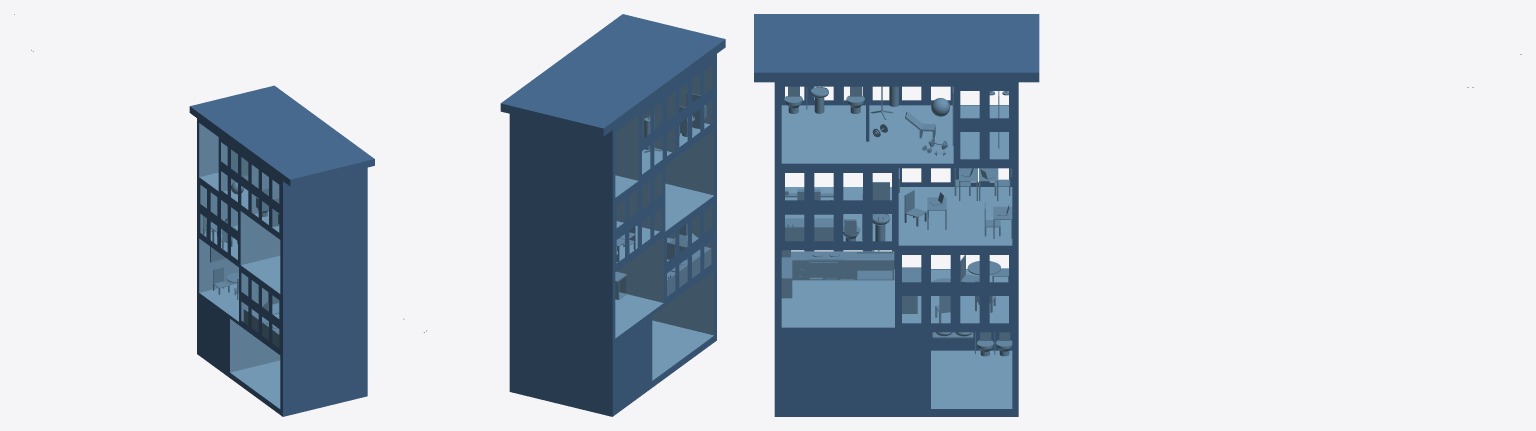
Rendered from office-1.glb.
The picture shows the model from 3 angles, left to right: view 1: azimuth 30°, elevation 25°; view 2: azimuth 150°, elevation 25°; view 3: azimuth 270°, elevation 25°; orthographic projection. The views are drawn at different scales.
Parts seen in each view (by area): view 1: Cube, Grid.001, Cube.018, Cube.012, Cube.027, Cube.007, Cube.008, Cube.011, Cube.002, Cube.031; view 2: Cube, Grid.001, Cube.011, Cube.027, Cube.019, Cube.007, Cube.012, Cube.031, Cube.002, Cube.008, Cube.020; view 3: Grid, Cube, Cube.008, Cube.007, Cube.027, Cube.031, Grid.001, Cube.042.
Part boxes in pixels (x1=…): Cube: x1=189, y1=85, x2=374, y2=416; Grid.001: x1=198, y1=119, x2=281, y2=413; Cube.018: x1=229, y1=318, x2=280, y2=372; Cube.012: x1=240, y1=211, x2=280, y2=265; Cube.027: x1=202, y1=225, x2=280, y2=293; Cube.007: x1=199, y1=283, x2=279, y2=321; Cube.008: x1=199, y1=172, x2=279, y2=232; Cube.011: x1=241, y1=272, x2=279, y2=321; Cube.002: x1=251, y1=165, x2=279, y2=214; Cube.031: x1=243, y1=307, x2=279, y2=347; Cube: x1=500, y1=14, x2=725, y2=416; Grid.001: x1=614, y1=55, x2=715, y2=413; Cube.011: x1=616, y1=237, x2=663, y2=302; Cube.027: x1=616, y1=183, x2=713, y2=262; Cube.019: x1=615, y1=115, x2=638, y2=180; Cube.007: x1=615, y1=259, x2=668, y2=338; Cube.012: x1=616, y1=171, x2=662, y2=231; Cube.031: x1=667, y1=237, x2=711, y2=296; Cube.002: x1=642, y1=92, x2=675, y2=152; Cube.008: x1=615, y1=123, x2=710, y2=197; Cube.020: x1=615, y1=271, x2=626, y2=299; Grid: x1=778, y1=82, x2=1015, y2=414; Cube: x1=754, y1=14, x2=1039, y2=416; Cube.008: x1=781, y1=105, x2=1008, y2=163; Cube.007: x1=781, y1=269, x2=1008, y2=327; Cube.027: x1=785, y1=187, x2=1012, y2=245; Cube.031: x1=781, y1=251, x2=894, y2=298; Grid.001: x1=781, y1=86, x2=1012, y2=350; Cube.042: x1=785, y1=218, x2=833, y2=241.
Size of what is drawn, in the model's own units: 13.87 by 35.44 by 71.64.
